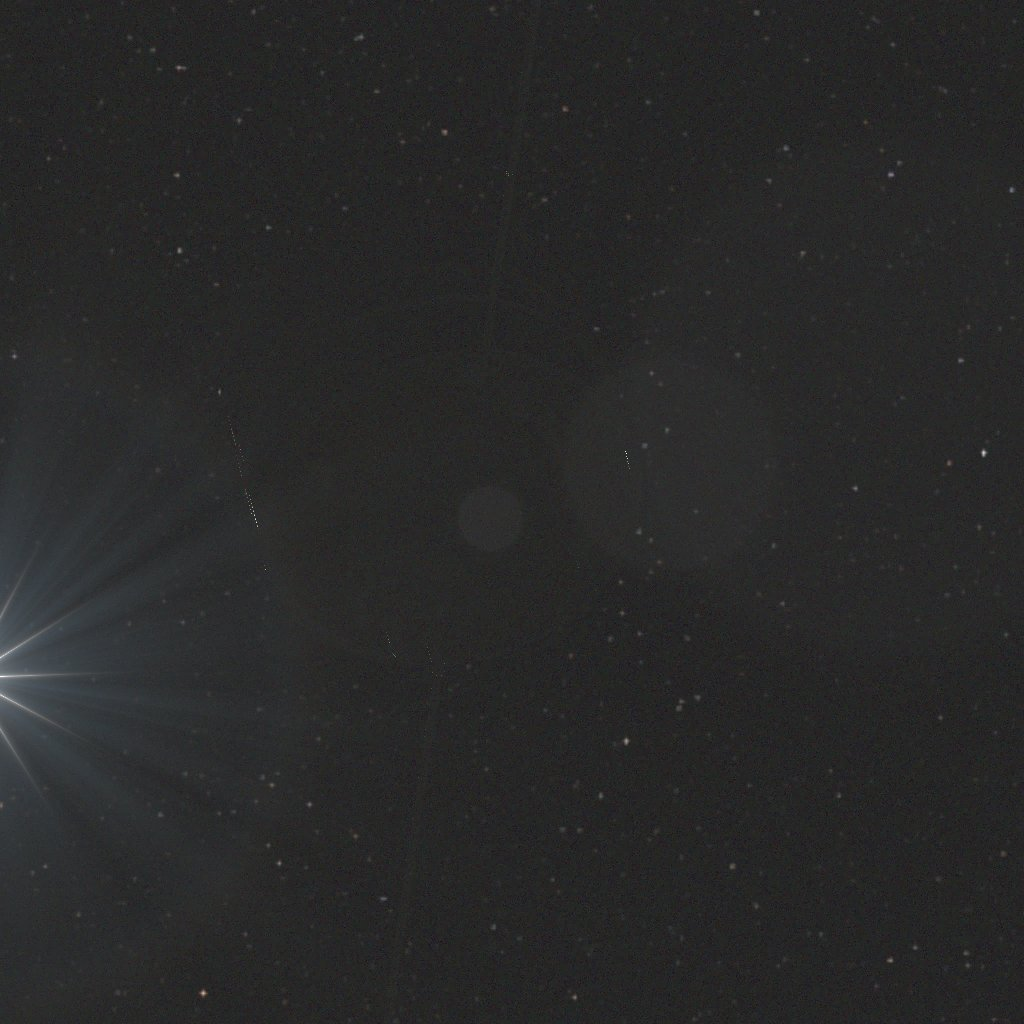double_star: (221, 0, 643, 1024)
